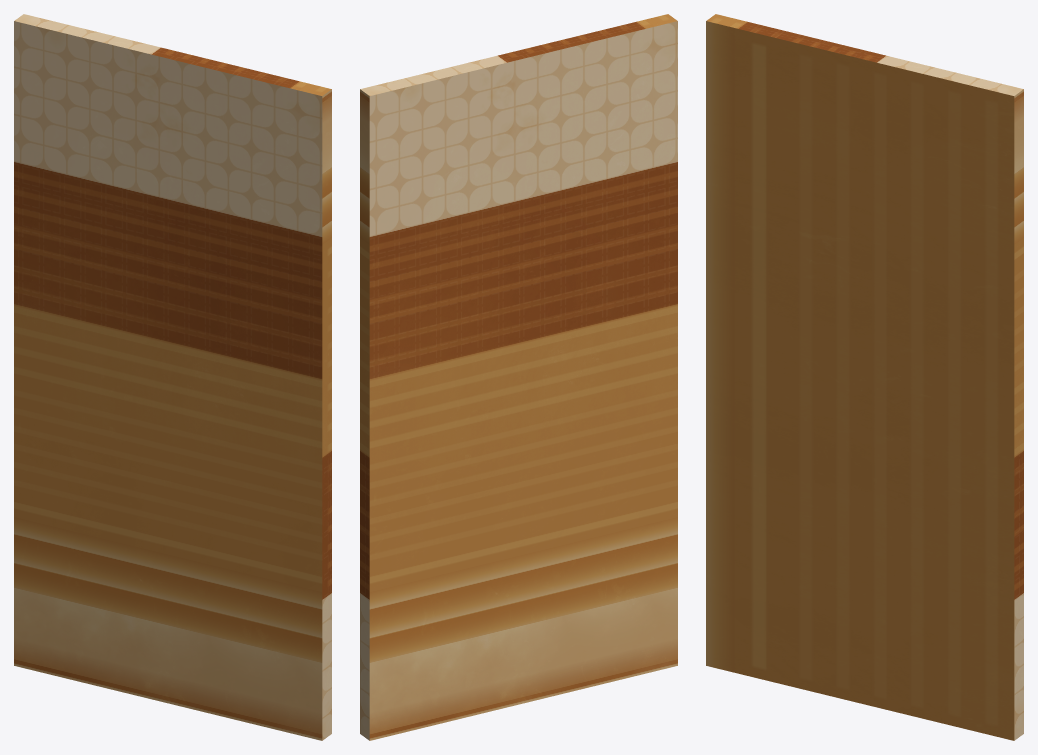
The model's file is slantedWall.fbx.
The picture shows the model from 3 angles, left to right: view 1: azimuth 90°, elevation 25°; view 2: azimuth 150°, elevation 25°; view 3: azimuth 270°, elevation 25°; orthographic projection.
Parts seen in each view (by area): view 1: slantedwall; view 2: slantedwall; view 3: slantedwall.
Boxes of the visible parts, left/top/right/bottom form: slantedwall: left=14, top=14, right=331, bottom=740; slantedwall: left=360, top=14, right=677, bottom=740; slantedwall: left=706, top=14, right=1023, bottom=740.
Bounding box in the file's own units: 438 × 1600 × 714.
